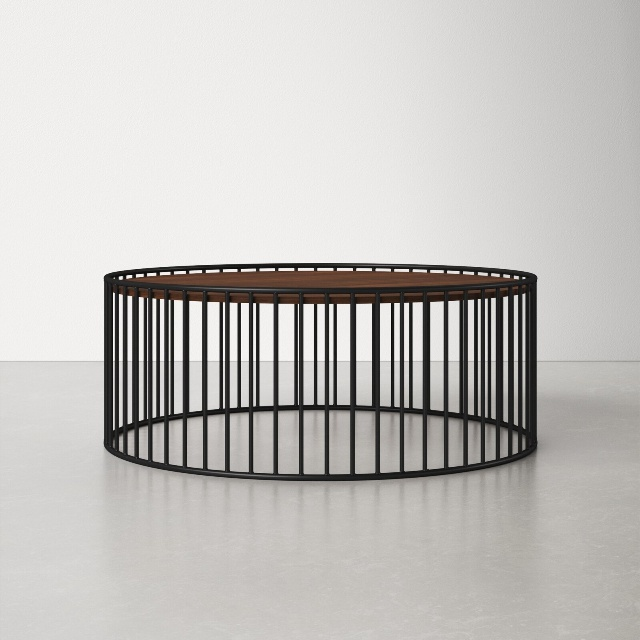obstacle: (104, 263, 536, 479)
